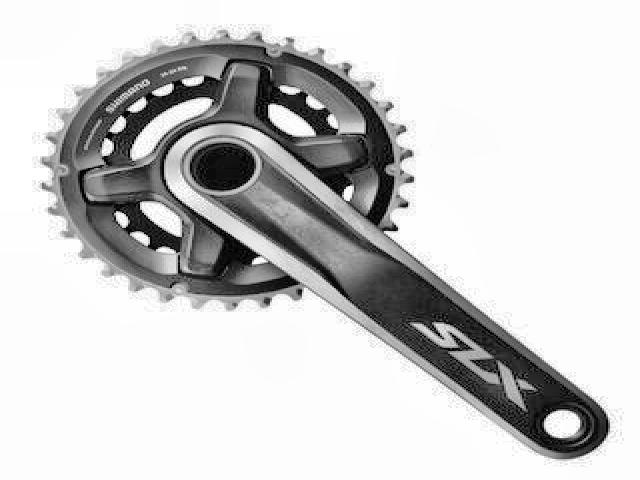cranks_set: (39, 28, 615, 464)
